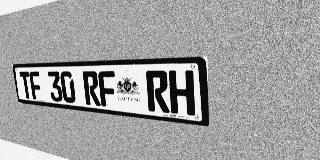0: (59, 71, 76, 104)
3: (47, 71, 63, 102)
F: (98, 71, 117, 108), (29, 71, 43, 100)
H: (169, 70, 195, 116)
R: (146, 71, 170, 113), (82, 71, 101, 106)
T: (19, 72, 33, 99)
